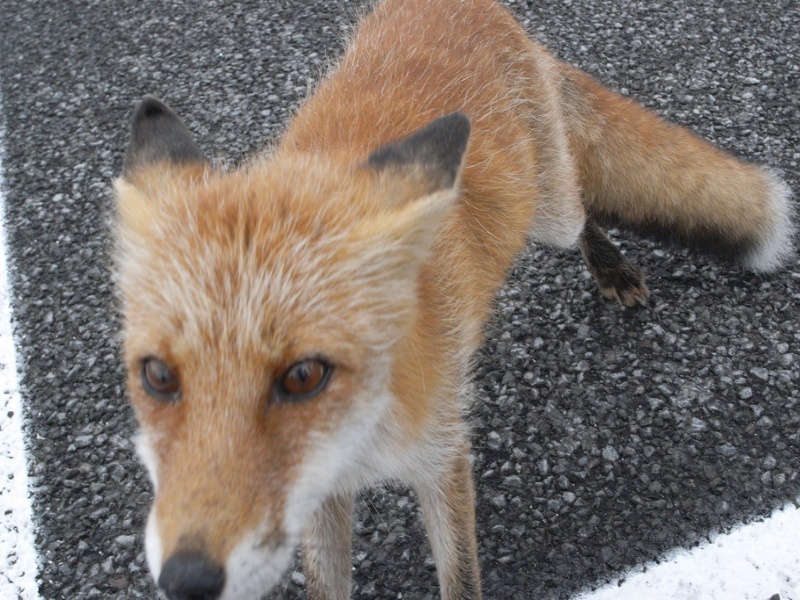fox: (105, 1, 792, 599)
